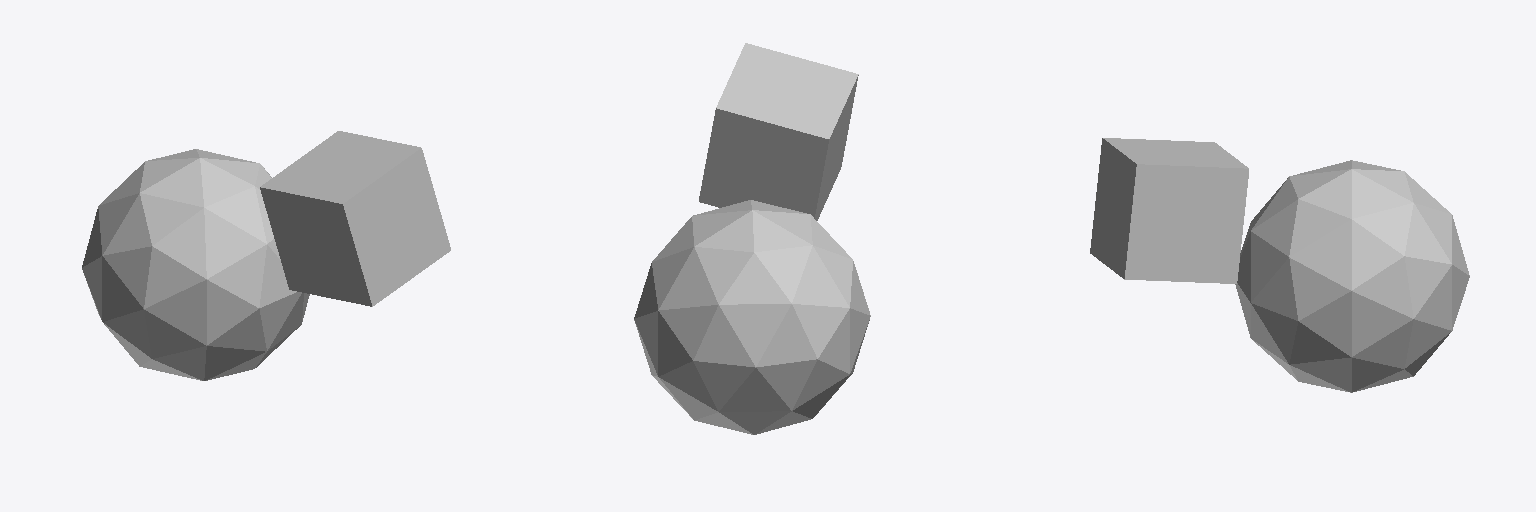
The model's file is ICOsmooth.obj.
The picture shows the model from 3 angles: view 1: azimuth 30°, elevation 25°; view 2: azimuth 150°, elevation 25°; view 3: azimuth 270°, elevation 25°; orthographic projection.
Parts seen in each view (by area): view 1: Icosphere, Cube; view 2: Icosphere, Cube; view 3: Icosphere, Cube.
Boxes of the visible parts, x1=… form: Icosphere: x1=82, y1=149, x2=309, y2=380; Cube: x1=260, y1=131, x2=450, y2=306; Icosphere: x1=634, y1=200, x2=870, y2=434; Cube: x1=699, y1=43, x2=858, y2=220; Icosphere: x1=1235, y1=160, x2=1469, y2=392; Cube: x1=1090, y1=138, x2=1248, y2=283.
Size of the model in its own units: 4.59 by 5.13 by 6.41.